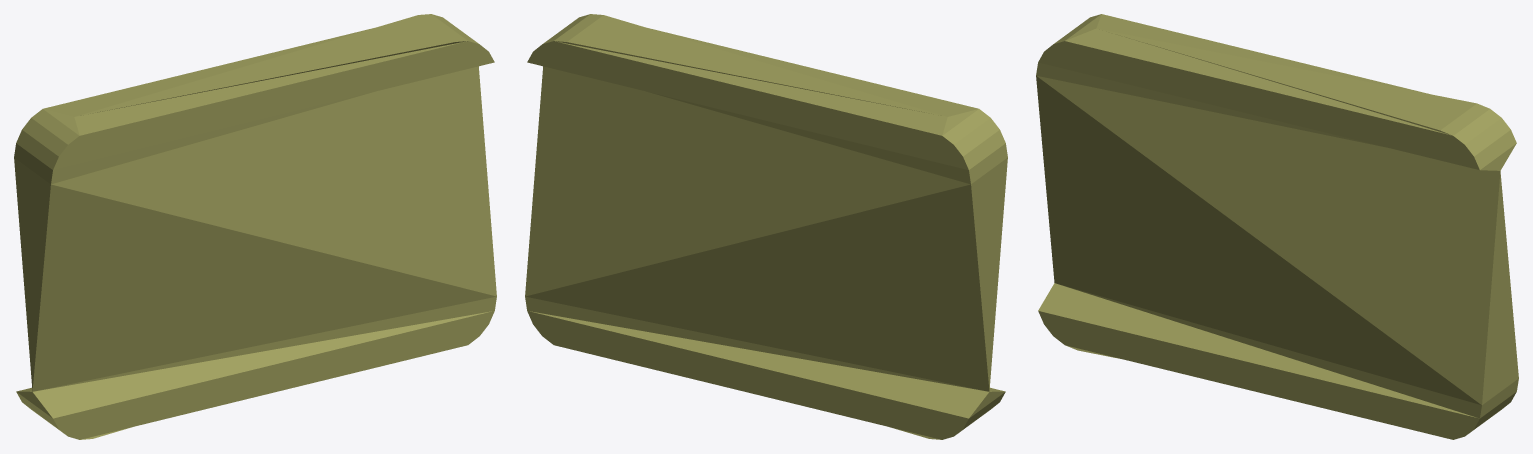
File: OBJ_PCB_satima_s1a.obj
The picture shows the model from 3 angles, left to right: view 1: azimuth 30°, elevation 25°; view 2: azimuth 150°, elevation 25°; view 3: azimuth 330°, elevation 25°; orthographic projection.
Bounding box in the file's own units: 69.67 × 46.04 × 10.
